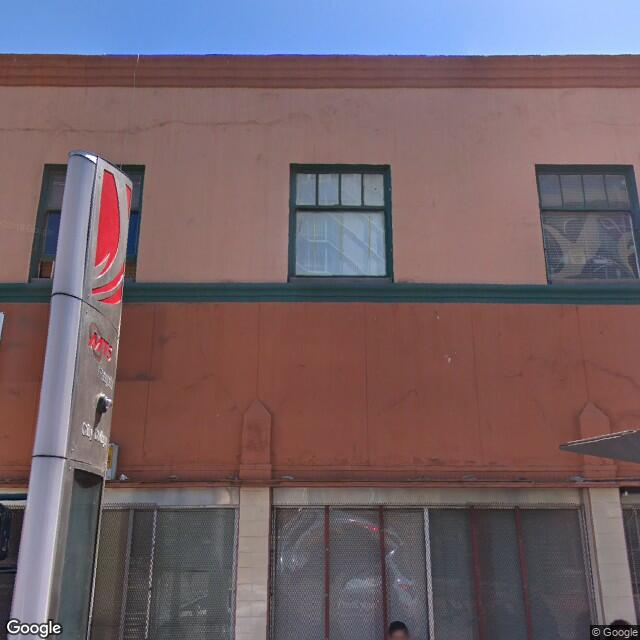window: (285, 161, 397, 289), (535, 159, 640, 282), (274, 495, 336, 602)
